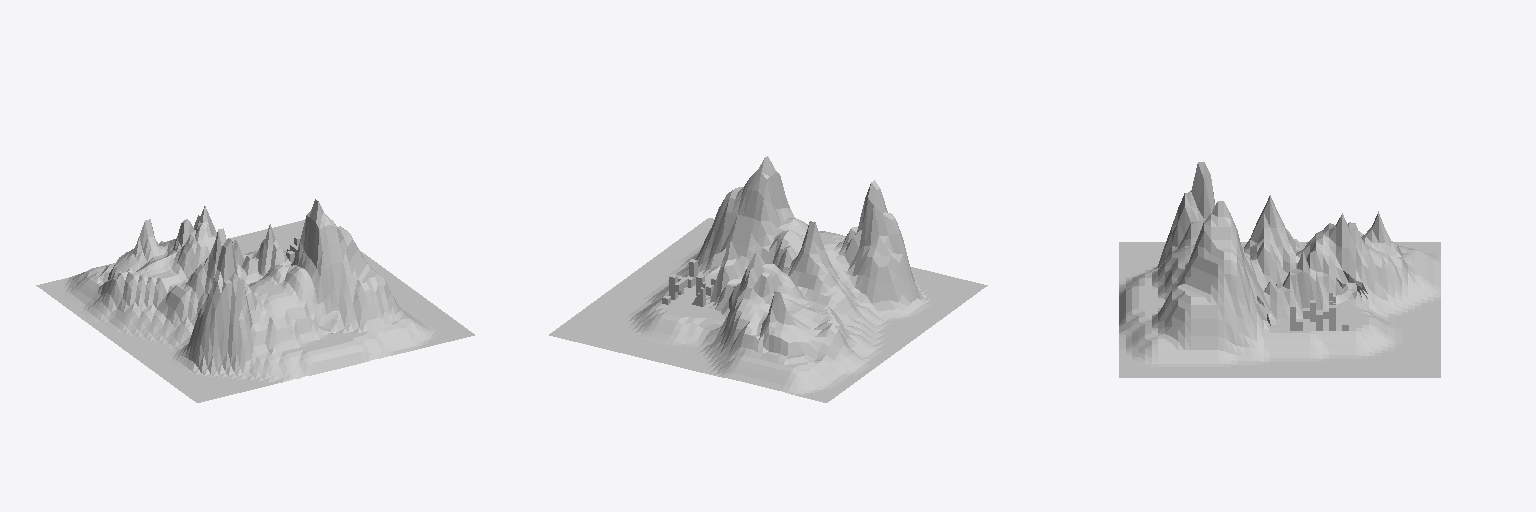
The model's file is Map1_Default_WIP.obj.
3 renders of one model, left to right at view 1: azimuth 30°, elevation 25°; view 2: azimuth 150°, elevation 25°; view 3: azimuth 270°, elevation 25°, orthographic.
Visible parts, largest first — view 1: Plane; view 2: Plane; view 3: Plane.
Part boxes in pixels (x1,y1,x2,y2): Plane: (36,199,474,402); Plane: (549,156,987,402); Plane: (1119,162,1440,377).
Size of the model in its own units: 40 by 19.15 by 40.